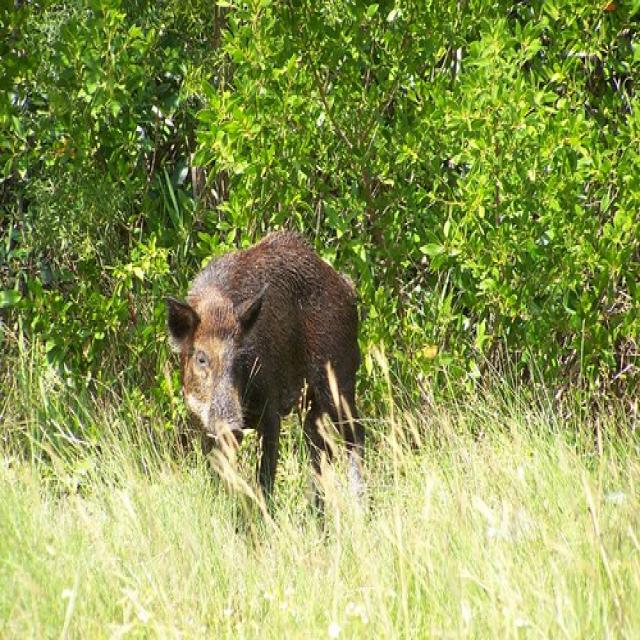boar: (124, 214, 437, 558)
